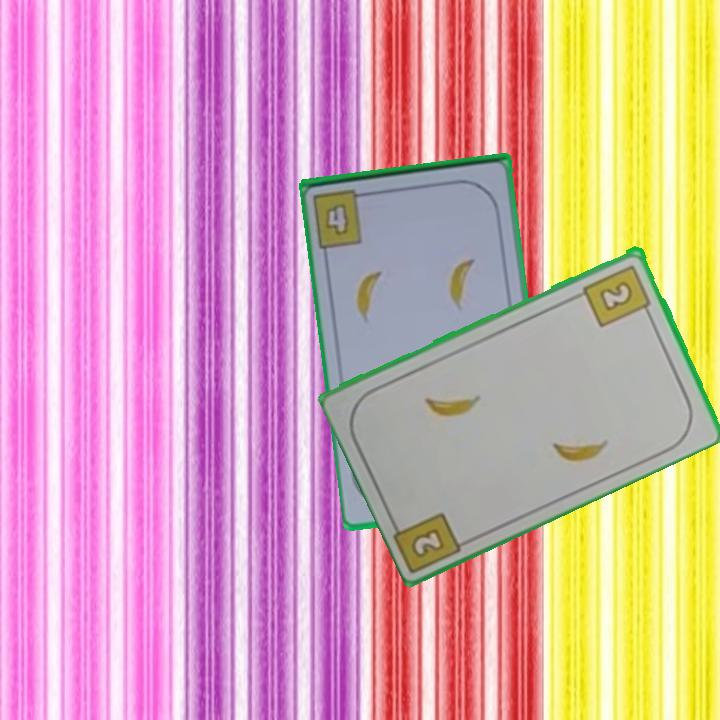2b: (580, 261, 654, 330), (407, 524, 448, 561)
4b: (322, 203, 353, 239)
